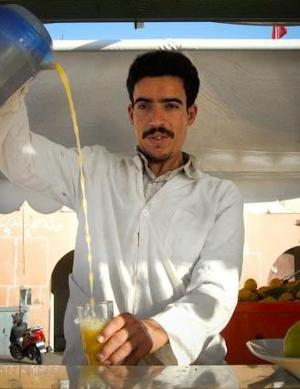person: (2, 48, 245, 366)
